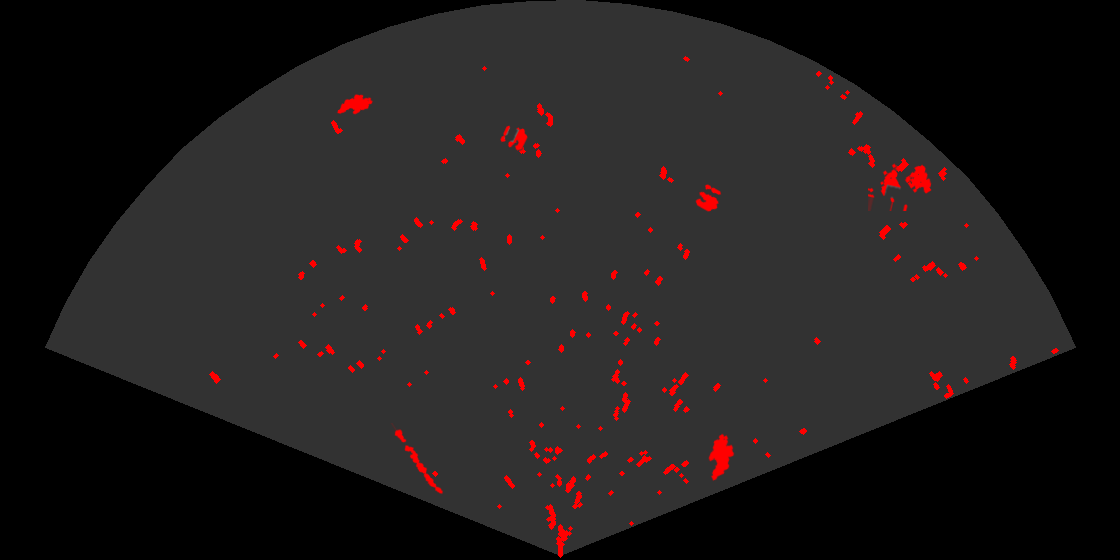AUV: (707, 432, 736, 483), (335, 92, 374, 116)
ball: (694, 183, 723, 213), (499, 124, 529, 153)
cage: (868, 162, 933, 211)
chain: (389, 423, 445, 496)
